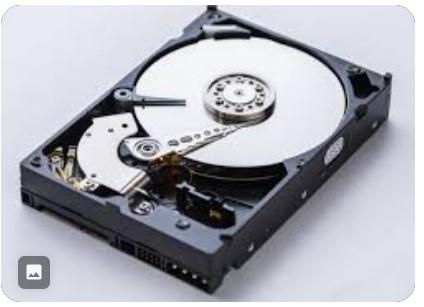internal HDD: (19, 6, 394, 300)
